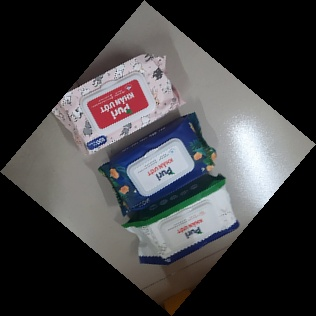Puri Trang: (120, 169, 244, 268)
Puri Xanh: (96, 111, 221, 218)
Puri hong: (45, 52, 186, 154)
